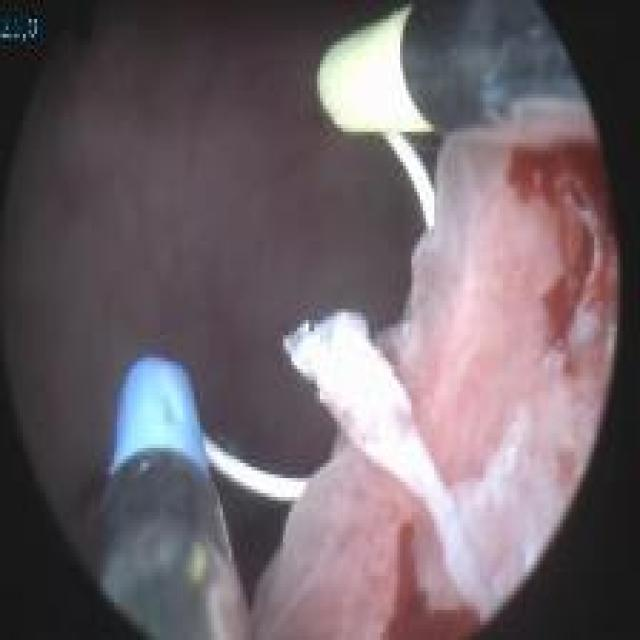color misalignment: (4, 9, 39, 45), (308, 321, 316, 333)
instrument: (175, 127, 449, 508), (321, 2, 617, 153), (98, 357, 254, 632)
saturation: (296, 312, 403, 427), (331, 24, 424, 133)
